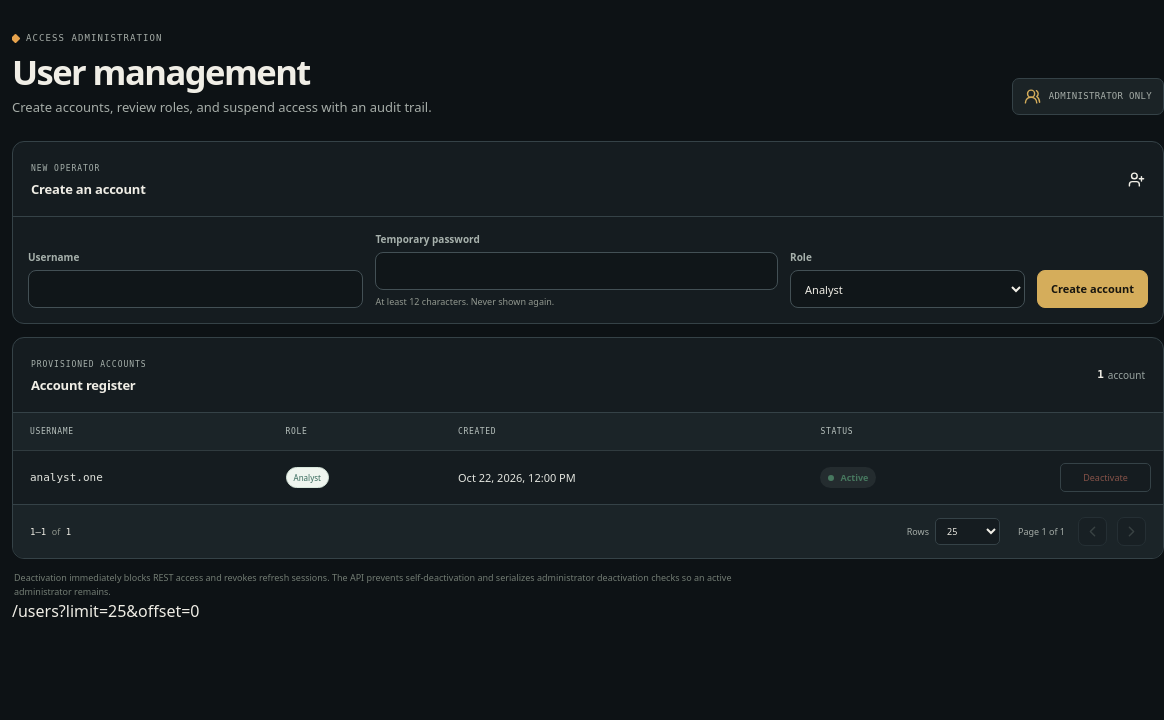
Test: overview and capture history dashboard › creates an account, clears the temporary password, and reloads the account list
Type "new.operator" into the field labelled "Username" at (196, 289), box top-left (28, 270), bottom-right (364, 308)
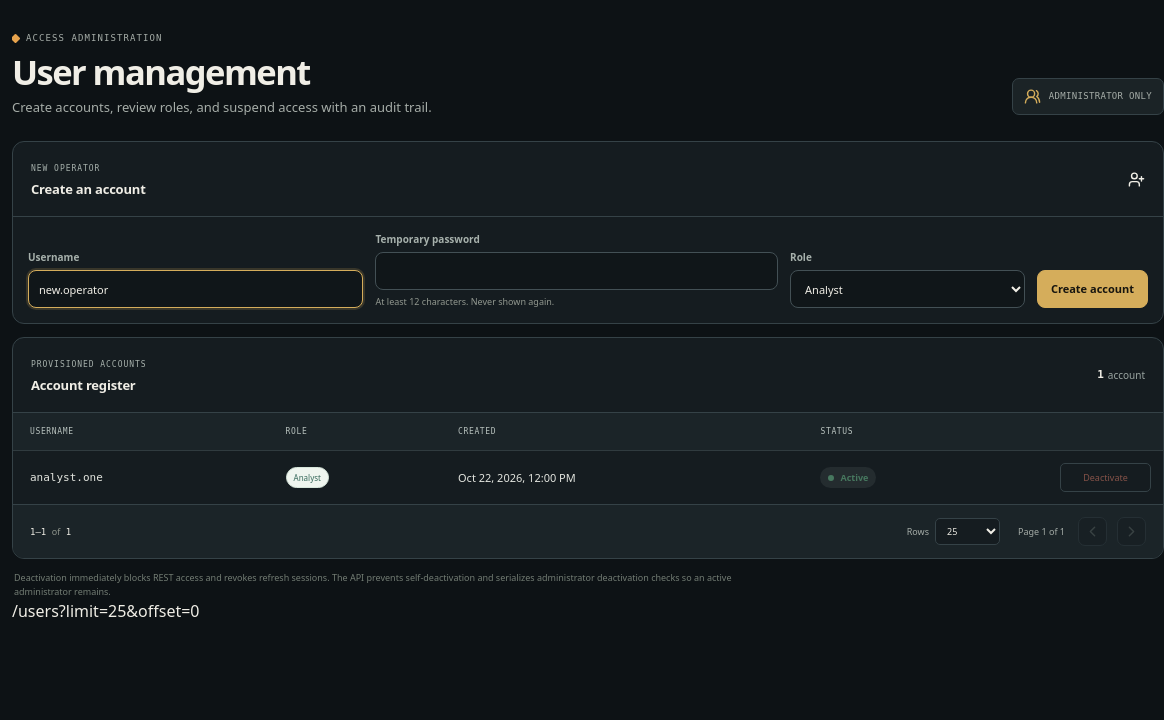
Type "a-long-temporary-passphrase" into the password field labelled "Temporary password" at (577, 271), box top-left (376, 252), bottom-right (778, 290)
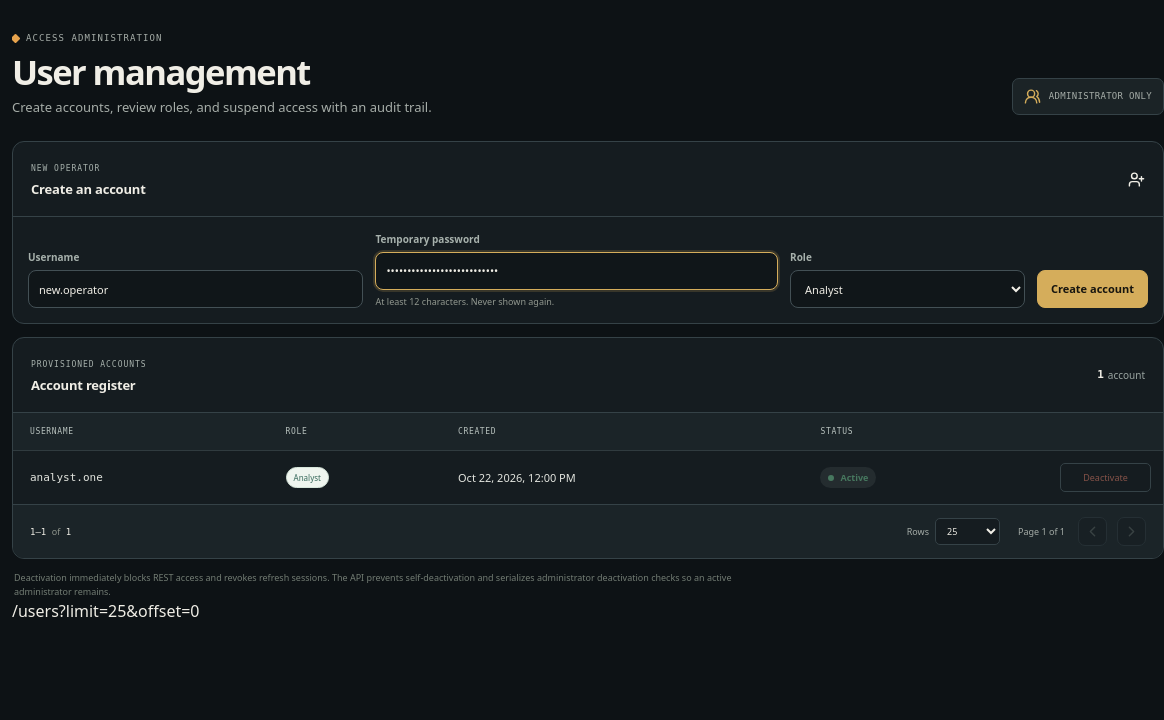
Select "Viewer" in the dropdown labelled "Role" at (908, 289), box top-left (790, 270), bottom-right (1025, 308)
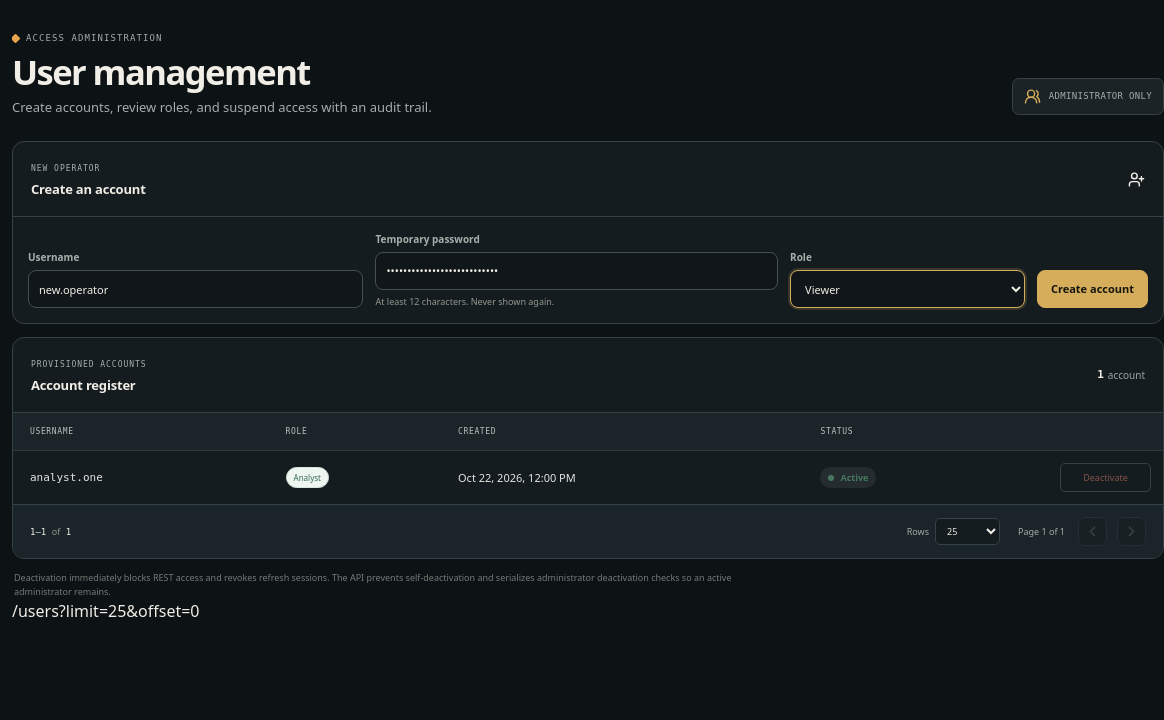
Click the button "Create account" at (1092, 289), box top-left (1037, 270), bottom-right (1148, 308)
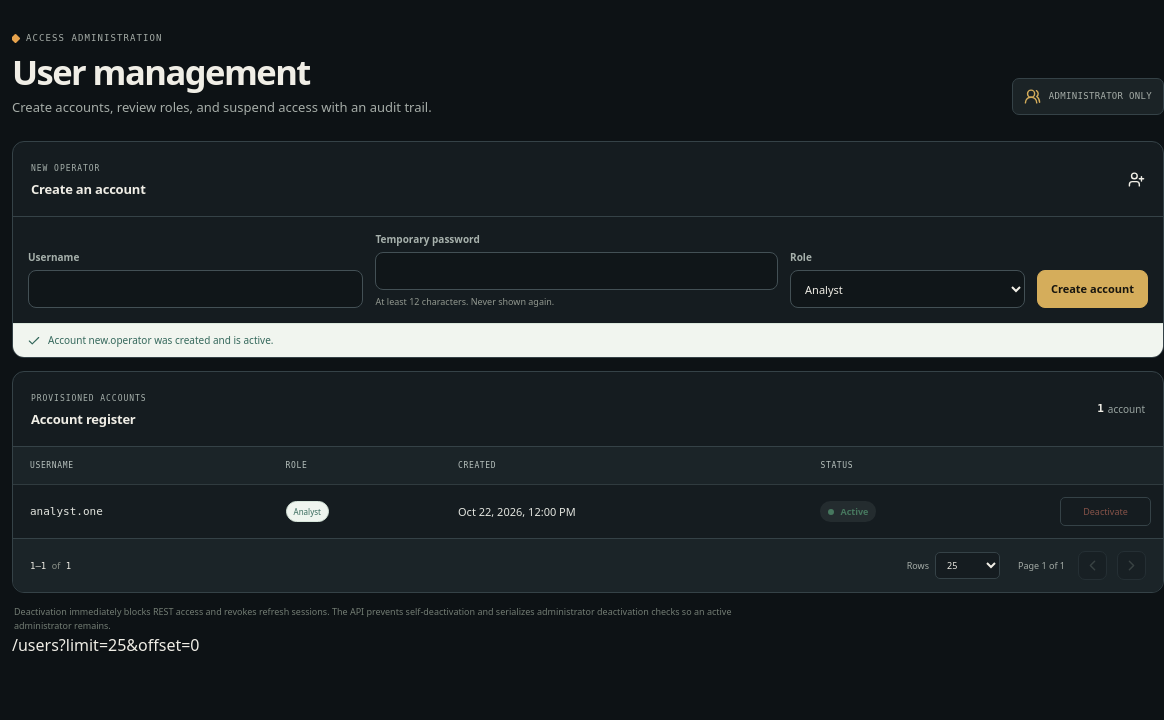
expect the text "Account new.operator was created and is active." is shown: met, box top-left (13, 323), bottom-right (1163, 357)
expect the password field labelled "Temporary password" is empty: met, box top-left (376, 252), bottom-right (778, 290)
